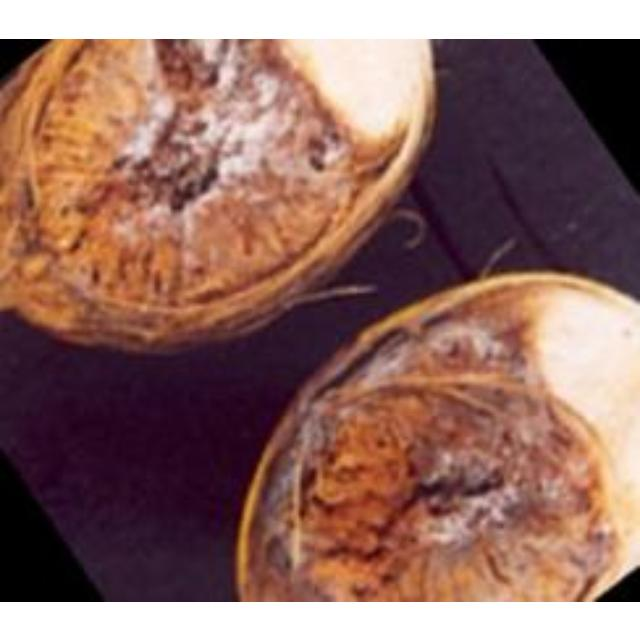damaged: (0, 38, 433, 348), (239, 271, 637, 599)
